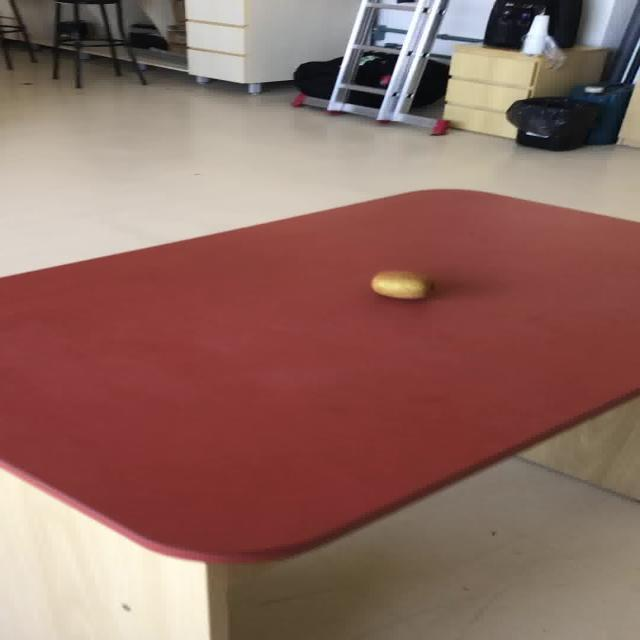kiwi: (370, 270, 430, 300)
